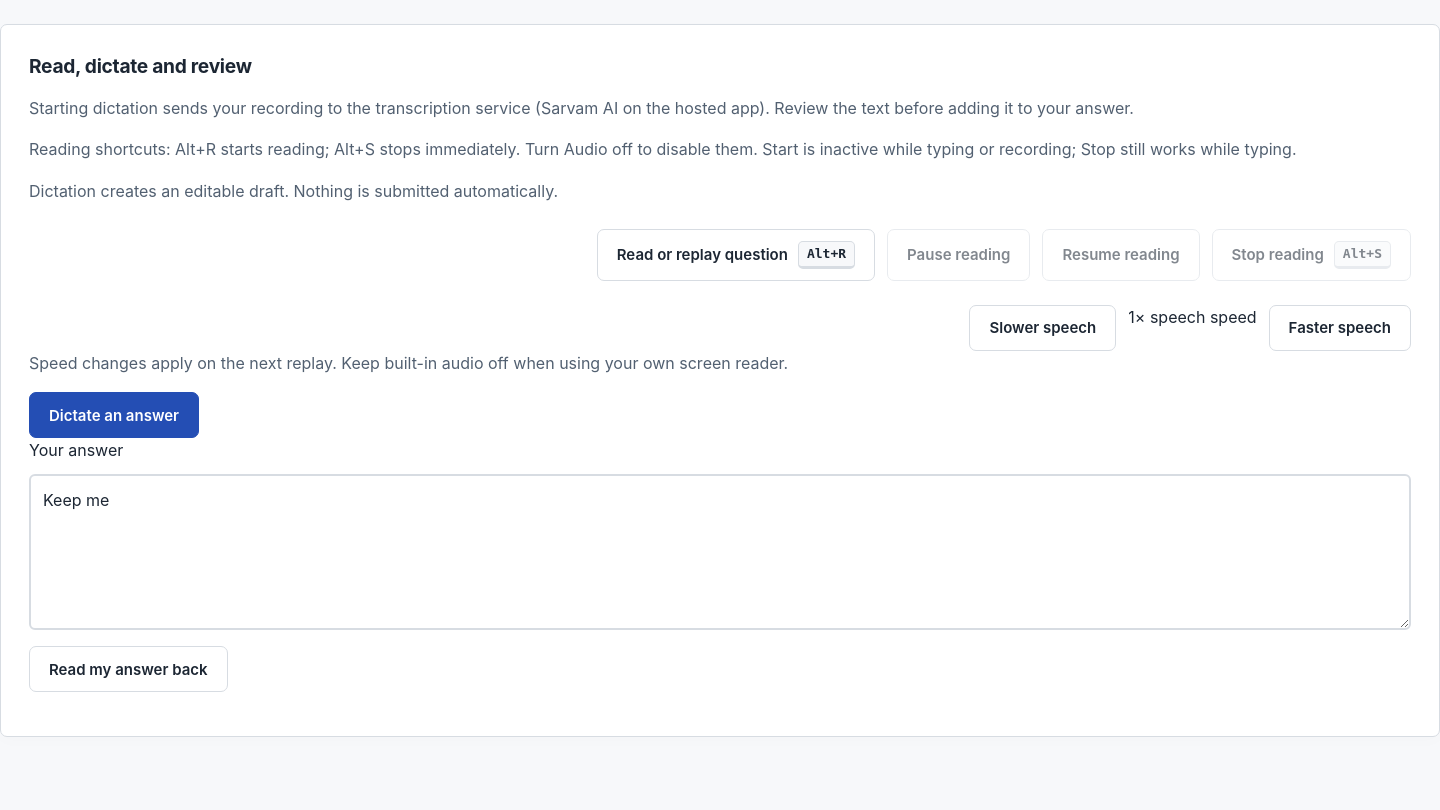
Scenario: audio controls › preserves existing answer on a network failure
The image size is (1440, 810).
Click the button "Dictate an answer". click: (114, 415)
box: [29,392,199,438]
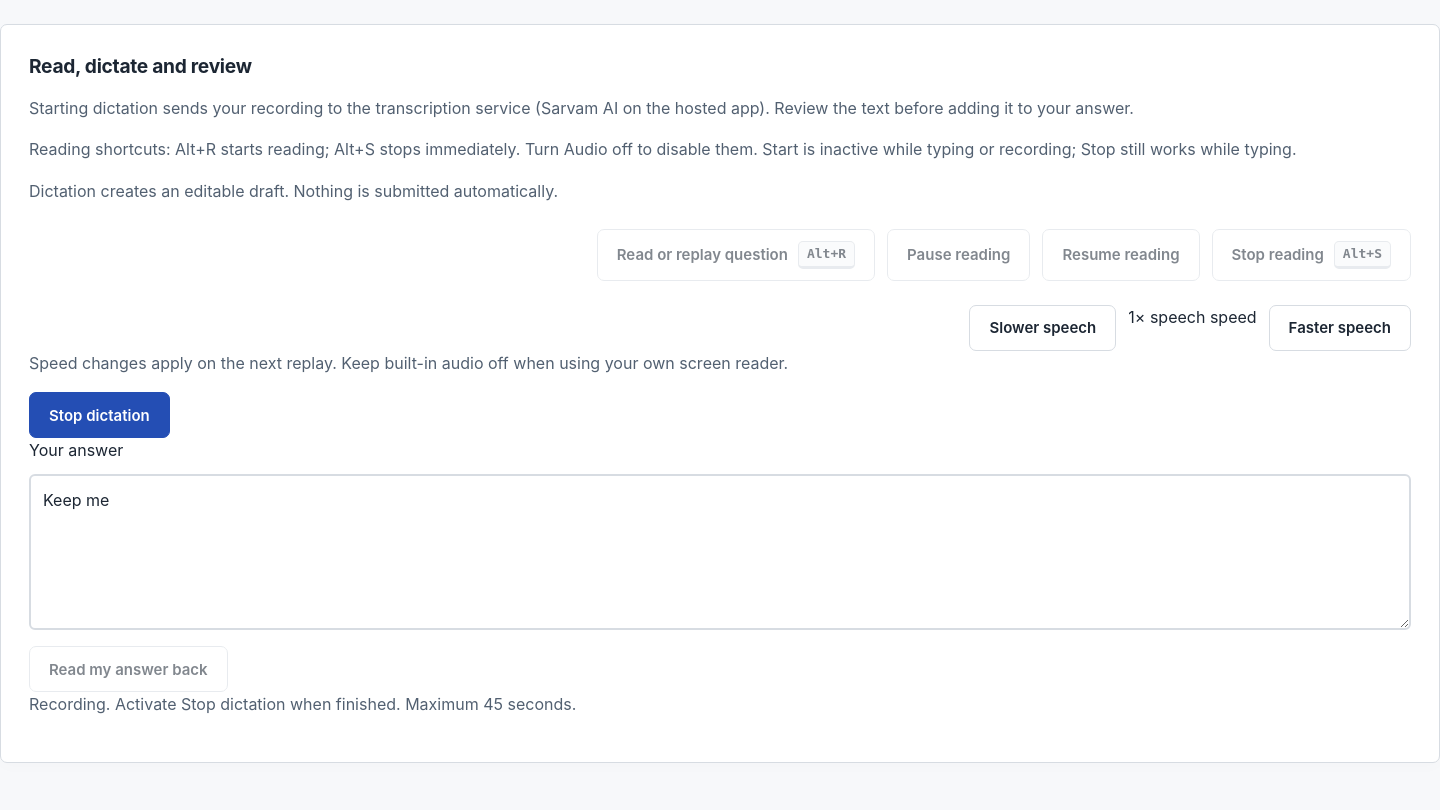
Click the button "Stop dictation". click: (99, 415)
box: [29,392,170,438]
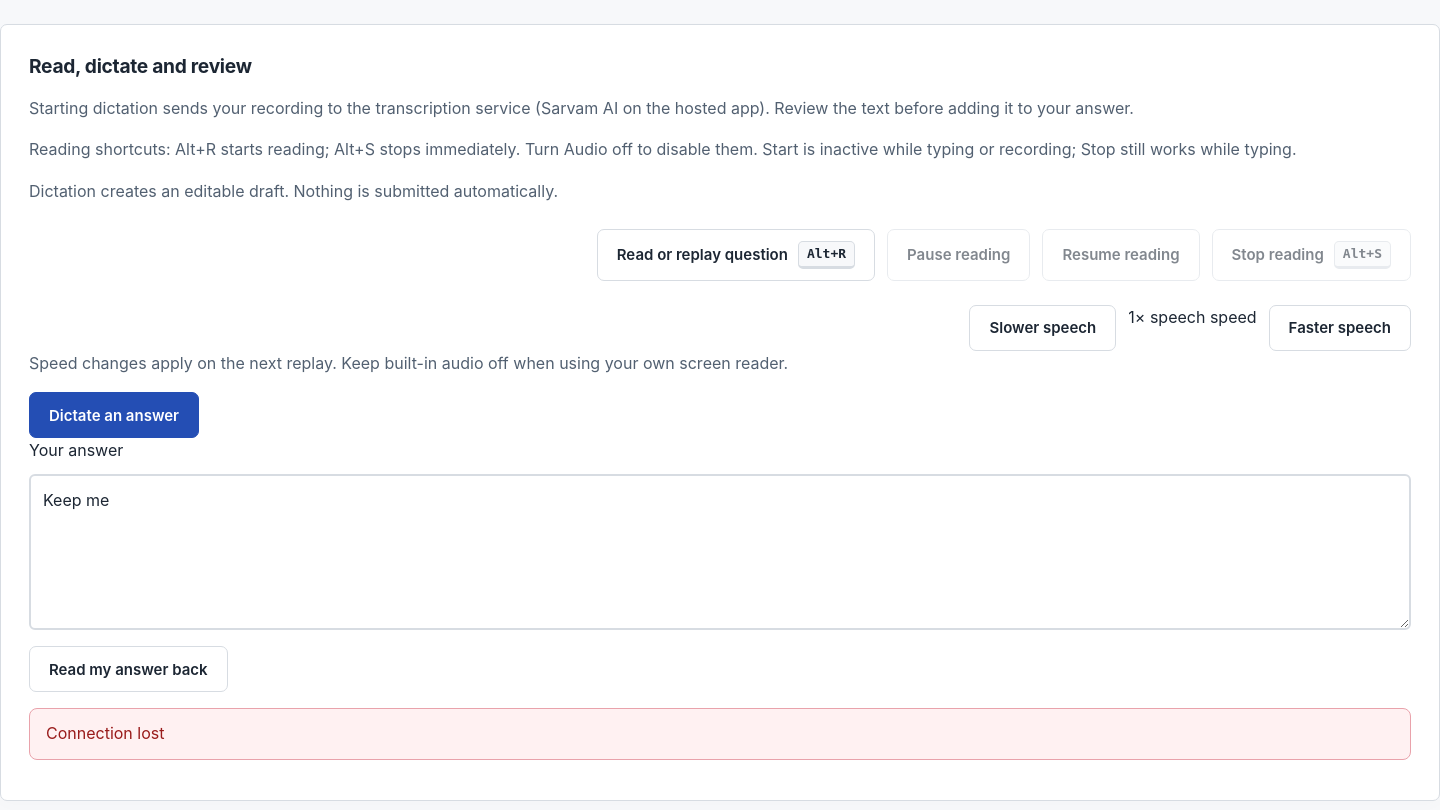
Expected: the text box labelled "Your answer" holds "Keep me", [29,474,1411,630]
Now the message reads "Connection lost", box [46,723,164,743]
